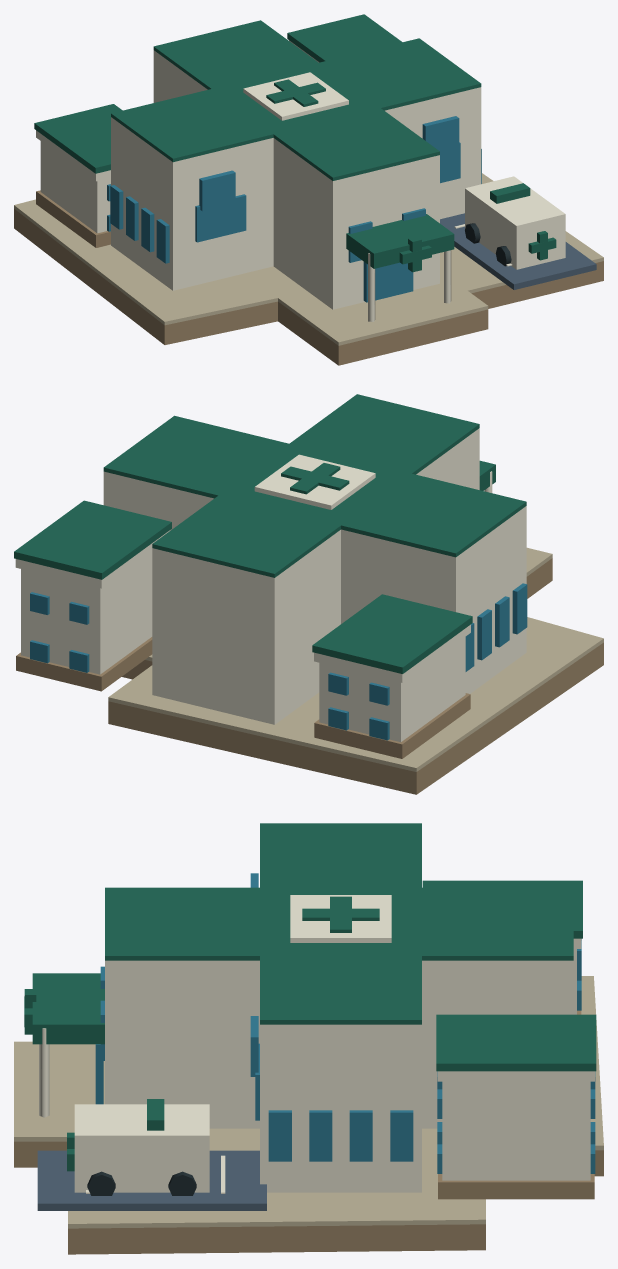
File: medical-center-lv3.glb
The picture shows the model from 3 angles, top to bottom: view 1: azimuth 30°, elevation 25°; view 2: azimuth 150°, elevation 25°; view 3: azimuth 270°, elevation 25°; orthographic projection. The views are drawn at different scales.
Parts seen in each view (by area): view 1: cross_clinic_white, cross_clinic_jade, foundation_paving, foundation_stoneDark, ambulance_white, inpatient_wing_white, entry_canopy_jade, inpatient_wing_roof_jade, ambulance_lane_slate, diagnostics_wing_roof_jade, clinic_windows_glass, upper_clinic_windows_glass (+10 smaller); view 2: cross_clinic_white, cross_clinic_jade, foundation_paving, foundation_stoneDark, diagnostics_wing_white, inpatient_wing_white, inpatient_wing_roof_jade, diagnostics_wing_roof_jade, roof_mark_white, inpatient_wing_stoneDark, side_clinic_windows_glass, diagnostics_wing_stoneDark (+3 smaller); view 3: cross_clinic_white, cross_clinic_jade, foundation_paving, diagnostics_wing_white, foundation_stoneDark, ambulance_white, diagnostics_wing_roof_jade, ambulance_lane_slate, entry_canopy_jade, side_clinic_windows_glass, roof_mark_white, diagnostics_wing_stoneDark (+8 smaller).
Part boxes in pixels (<box>): cross_clinic_white: <box>111,50,481,309</box>; cross_clinic_jade: <box>111,20,481,180</box>; foundation_paving: <box>14,173,603,345</box>; foundation_stoneDark: <box>14,209,603,365</box>; ambulance_white: <box>465,176,565,269</box>; inpatient_wing_white: <box>36,130,110,233</box>; entry_canopy_jade: <box>346,214,454,268</box>; inpatient_wing_roof_jade: <box>34,104,122,173</box>; ambulance_lane_slate: <box>440,213,596,289</box>; diagnostics_wing_roof_jade: <box>287,14,402,62</box>; clinic_windows_glass: <box>195,142,460,262</box>; upper_clinic_windows_glass: <box>199,116,459,211</box>; cross_clinic_white: <box>103,428,526,724</box>; cross_clinic_jade: <box>103,394,526,577</box>; foundation_paving: <box>108,547,603,771</box>; foundation_stoneDark: <box>108,558,603,794</box>; diagnostics_wing_white: <box>15,530,170,674</box>; inpatient_wing_white: <box>314,624,470,742</box>; inpatient_wing_roof_jade: <box>312,594,472,673</box>; diagnostics_wing_roof_jade: <box>14,500,171,579</box>; roof_mark_white: <box>254,454,375,509</box>; inpatient_wing_stoneDark: <box>314,693,470,758</box>; side_clinic_windows_glass: <box>465,583,527,671</box>; diagnostics_wing_stoneDark: <box>16,637,152,691</box>; cross_clinic_white: <box>105,960,573,1192</box>; cross_clinic_jade: <box>105,823,573,1024</box>; foundation_paving: <box>14,976,603,1228</box>; diagnostics_wing_white: <box>437,1071,594,1180</box>; foundation_stoneDark: <box>14,1141,603,1254</box>; ambulance_white: <box>74,1104,209,1192</box>; diagnostics_wing_roof_jade: <box>436,1014,596,1071</box>; ambulance_lane_slate: <box>37,1150,266,1210</box>; entry_canopy_jade: <box>32,973,104,1044</box>; side_clinic_windows_glass: <box>268,1110,413,1161</box>; roof_mark_white: <box>290,895,391,942</box>; diagnostics_wing_stoneDark: <box>438,1174,594,1199</box>.
Size of the model in its own units: 1 by 0.3915 by 0.9887.
